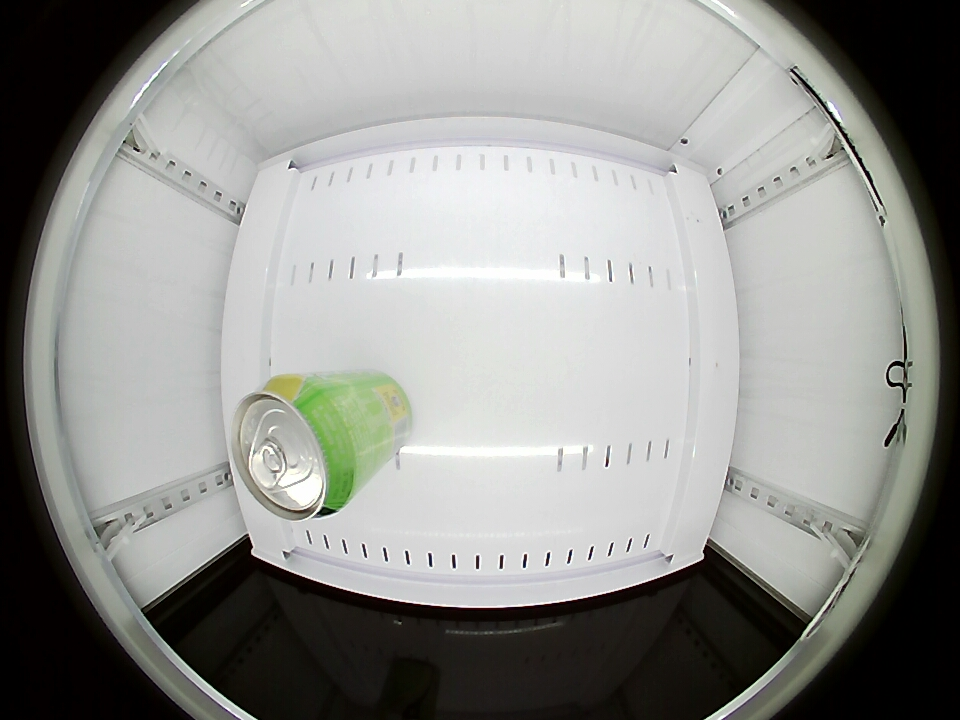quchenshixiangcao: (232, 379, 361, 521)
